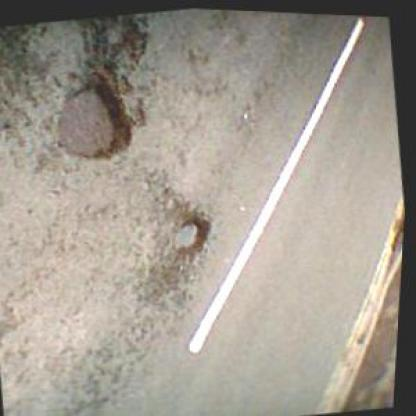pothole: (46, 78, 143, 168), (166, 211, 222, 258)
